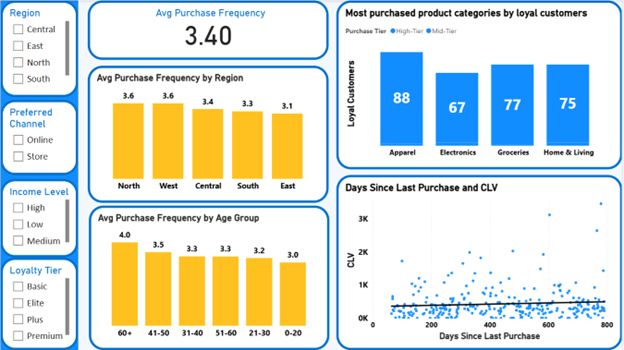

The dashboard page shown, as its layout file describes it:
{"tool":"powerbi","page":{"name":"Segmentation","canvas":[1280,720],"ordinal":3},"visuals":[{"type":"card","title":"Avg Purchase Frequency","fields":{"Values":["Measures (2).Avg Purchase Frequency"]},"box":[180.3,0,496.3,122.6],"z":0},{"type":"columnChart","fields":{"Category":["Customer_Demographics.Age Group"],"Y":["Measures (2).Avg Purchase Frequency"]},"box":[181.8,422.7,494.9,297.2],"z":1000},{"type":"columnChart","fields":{"Category":["Customer_Demographics.Region"],"Y":["Measures (2).Avg Purchase Frequency"]},"box":[180.3,134.2,496.3,282.8],"z":2000},{"type":"columnChart","title":"Most purchased product categories by loyal customers","fields":{"Category":["Customer_Transactions.Product_Category","Churn_Labelled_Customers.Churn_Flag"],"Series":["Customer_Transactions.Purchase Tier"],"Y":["CountNonNull(Customer_Transactions.Transaction_ID)"]},"box":[691.1,0,588.6,347.7],"z":3000},{"type":"shape","box":[0,0,160.2,720.8],"z":4000},{"type":"slicer","title":"Region","fields":{"Values":["Customer_Demographics.Region"]},"box":[0,0,160.2,199.3],"z":5000},{"type":"slicer","title":"Preferred Channel","fields":{"Values":["Customer_Demographics.Preferred_Channel"]},"box":[0,204.7,160.2,154.8],"z":6000},{"type":"slicer","title":"Income Level","fields":{"Values":["Customer_Demographics.Income_Level"]},"box":[0,368.4,160.2,162],"z":7000},{"type":"slicer","title":"Loyalty Tier","fields":{"Values":["Loyalty_Program.Loyalty_Tier"]},"box":[0,529.6,160.2,190.4],"z":8000},{"type":"scatterChart","fields":{"X":["Churn_Labelled_Customers.Days Since Last Purchase"],"Y":["Customer_Demographics.CLV"]},"box":[691.1,359.2,588.6,360.7],"z":9000}]}

Visuals, with their boxes in screenshot pixels (x1, y1, x2, y2), scaled from the page's 1280x720 canvas onto the 624x350 screenshot:
"Avg Purchase Frequency" card: [left=88, top=0, right=330, bottom=60]
columnChart - Customer_Demographics.Age Group x Measures (2).Avg Purchase Frequency: [left=89, top=205, right=330, bottom=349]
columnChart - Customer_Demographics.Region x Measures (2).Avg Purchase Frequency: [left=88, top=65, right=330, bottom=203]
"Most purchased product categories by loyal customers" columnChart: [left=337, top=0, right=623, bottom=169]
shape: [left=0, top=0, right=78, bottom=349]
"Region" slicer: [left=0, top=0, right=78, bottom=97]
"Preferred Channel" slicer: [left=0, top=100, right=78, bottom=175]
"Income Level" slicer: [left=0, top=179, right=78, bottom=258]
"Loyalty Tier" slicer: [left=0, top=257, right=78, bottom=349]
scatterChart - Churn_Labelled_Customers.Days Since Last Purchase x Customer_Demographics.CLV: [left=337, top=175, right=623, bottom=349]
